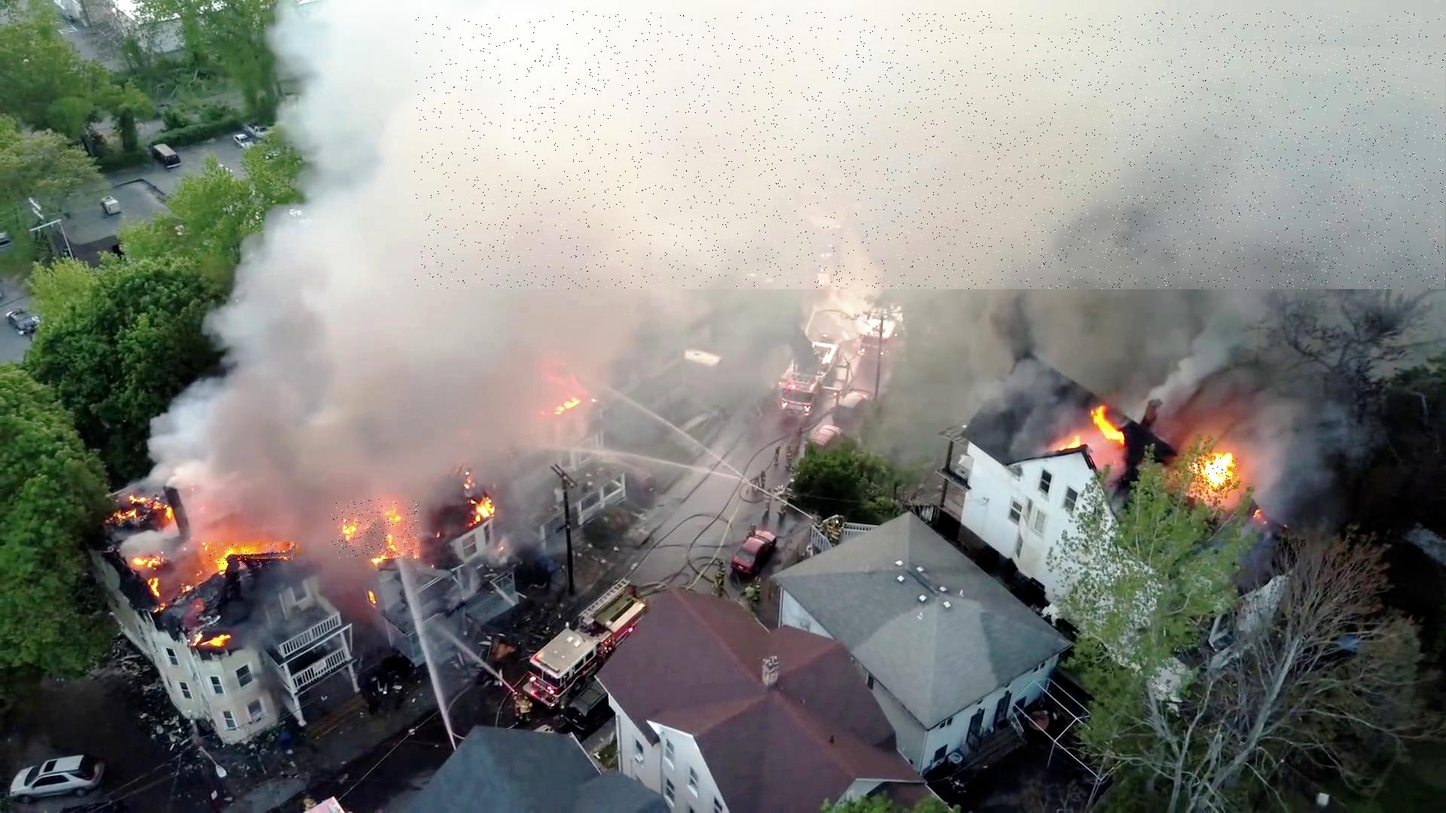fire: (332, 499, 420, 559), (208, 543, 299, 565), (1192, 458, 1239, 489)
smoke: (414, 11, 1446, 289)
